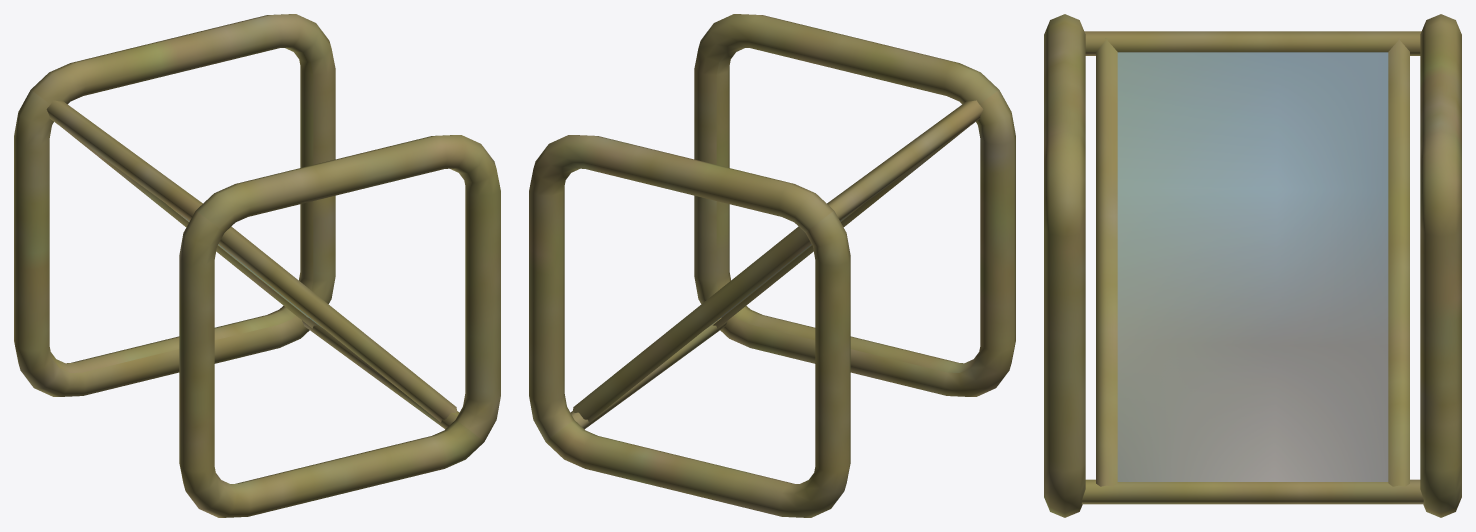
The model's file is SM_puzzle_mirrorBlock.fbx.
The picture shows the model from 3 angles, left to right: view 1: azimuth 30°, elevation 25°; view 2: azimuth 150°, elevation 25°; view 3: azimuth 270°, elevation 25°; orthographic projection. The views are drawn at different scales.
Parts seen in each view (by area): view 1: MirrorBlock_Low; view 2: MirrorBlock_Low; view 3: MirrorBlock_Low.
Part boxes in pixels (x1,y1,x2,y2): MirrorBlock_Low: [14, 14, 500, 517]; MirrorBlock_Low: [529, 14, 1015, 517]; MirrorBlock_Low: [1044, 14, 1461, 517].
Bounding box in the file's own units: 100 × 100 × 100.
